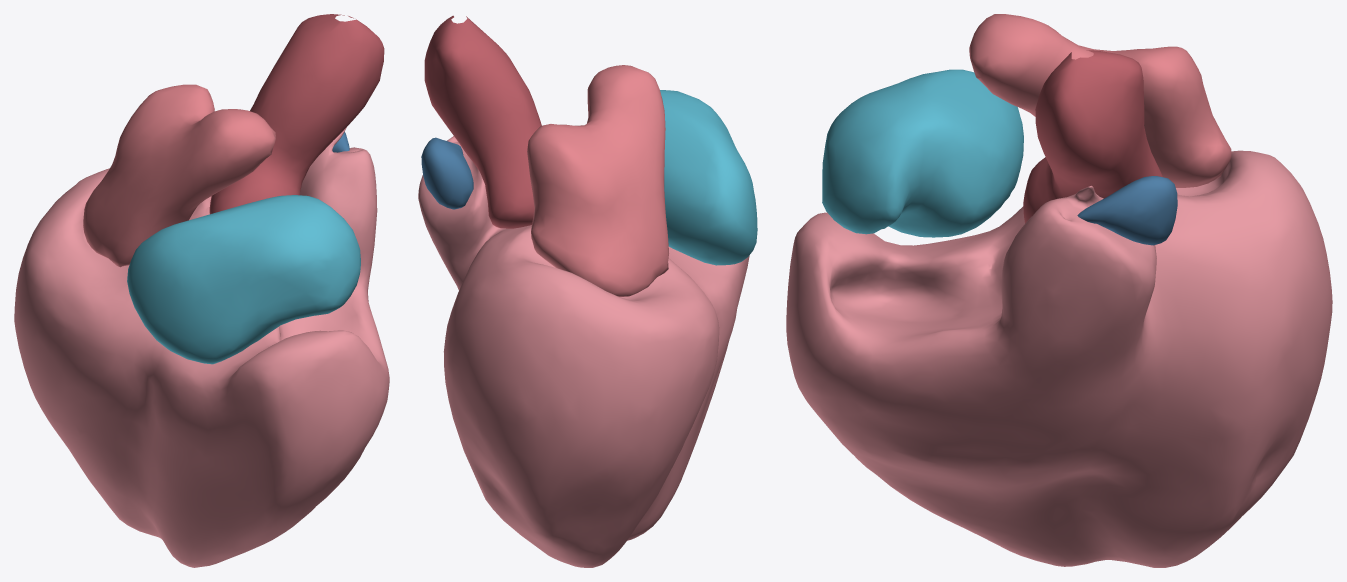
The model's file is frame_32.glb.
3 renders of one model, left to right at view 1: azimuth 30°, elevation 25°; view 2: azimuth 150°, elevation 25°; view 3: azimuth 270°, elevation 25°, orthographic. The views are drawn at different scales.
Parts seen in each view (by area): view 1: Renderer Node; view 2: Renderer Node; view 3: Renderer Node.
Boxes of the visible parts, <box> form: Renderer Node: <box>14,14,389,567</box>; Renderer Node: <box>418,15,757,567</box>; Renderer Node: <box>786,14,1332,567</box>.
Bounding box in the file's own units: 106 × 163 × 133.
